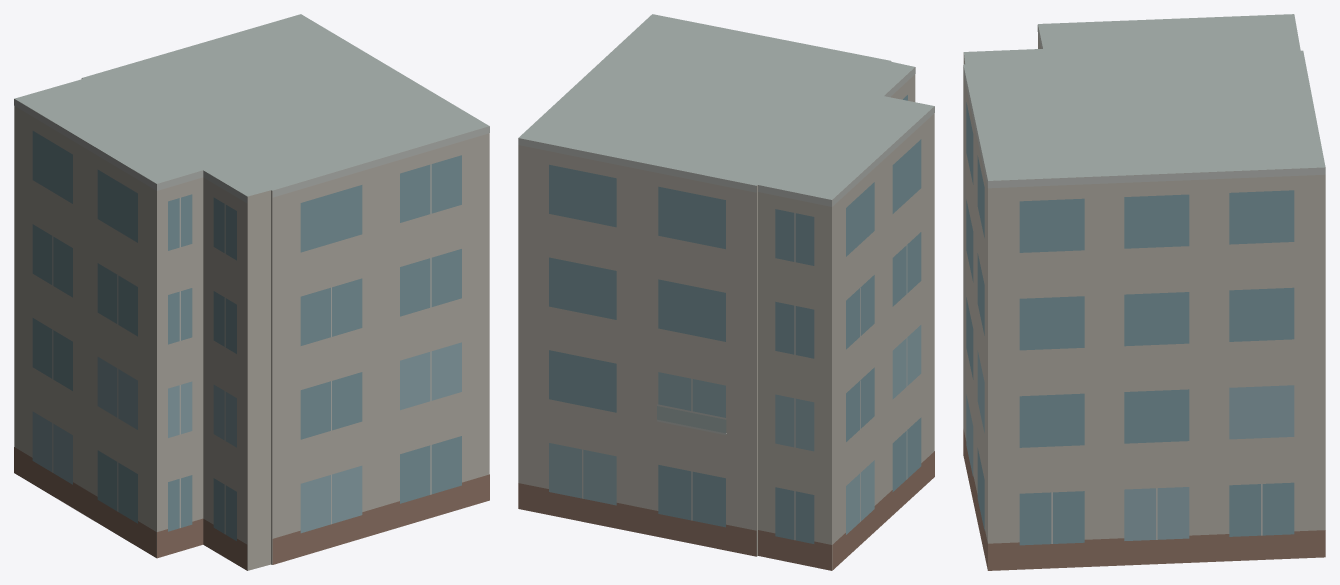
Rendered from survey-upis-32653082.glb.
3 views of the same model, side by side, from view 1: azimuth 30°, elevation 25°; view 2: azimuth 150°, elevation 25°; view 3: azimuth 270°, elevation 25° (orthographic). The views are drawn at different scales.
Parts seen in each view (by area): view 1: survey-upis-32653082.tmp; view 2: survey-upis-32653082.tmp; view 3: survey-upis-32653082.tmp.
Boxes of the visible parts, x1=… form: survey-upis-32653082.tmp: x1=14, y1=14, x2=489, y2=570; survey-upis-32653082.tmp: x1=518, y1=14, x2=934, y2=570; survey-upis-32653082.tmp: x1=963, y1=14, x2=1325, y2=570.
Bounding box in the file's own units: 11.94 × 12.99 × 10.95.
